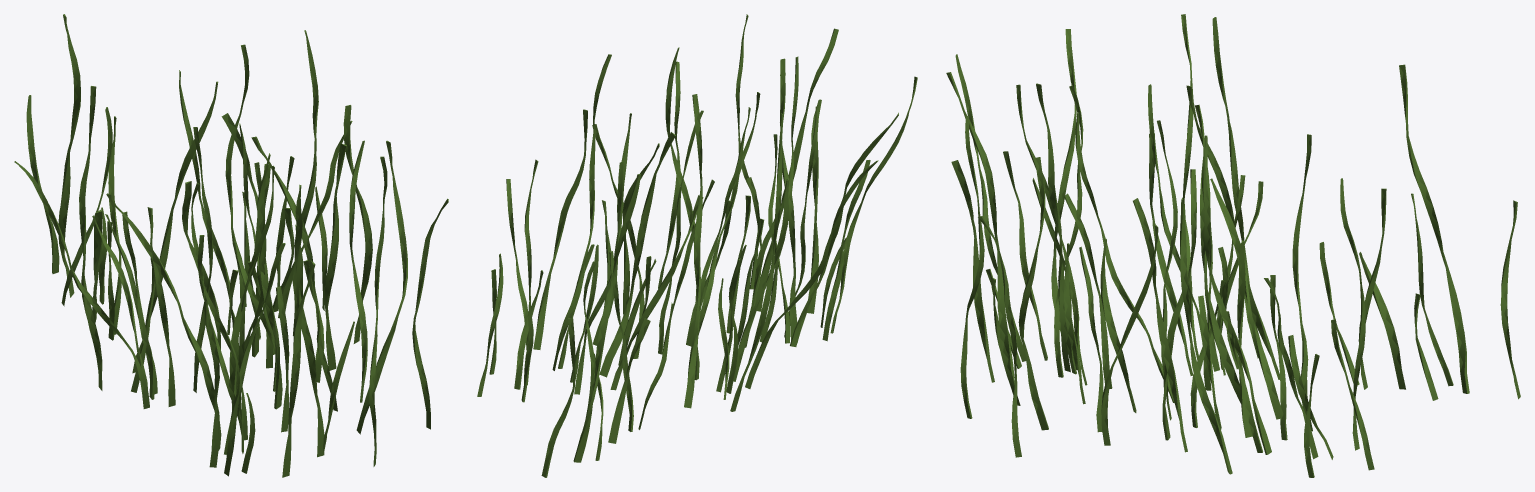
The model's file is plant_swamp_kelp_thick_A_light.fbx.
3 views of the same model, side by side, from view 1: azimuth 30°, elevation 25°; view 2: azimuth 150°, elevation 25°; view 3: azimuth 270°, elevation 25° (orthographic). The views are drawn at different scales.
Visible parts, largest first — view 1: plant_swamp_kelp_thick_A_light; view 2: plant_swamp_kelp_thick_A_light; view 3: plant_swamp_kelp_thick_A_light.
Boxes of the visible parts, box(x1,y1,x2,y2) form: plant_swamp_kelp_thick_A_light: box(14, 14, 448, 477); plant_swamp_kelp_thick_A_light: box(477, 14, 917, 477); plant_swamp_kelp_thick_A_light: box(946, 14, 1520, 477).
Size of the model in its own units: 394 by 339 by 522.
